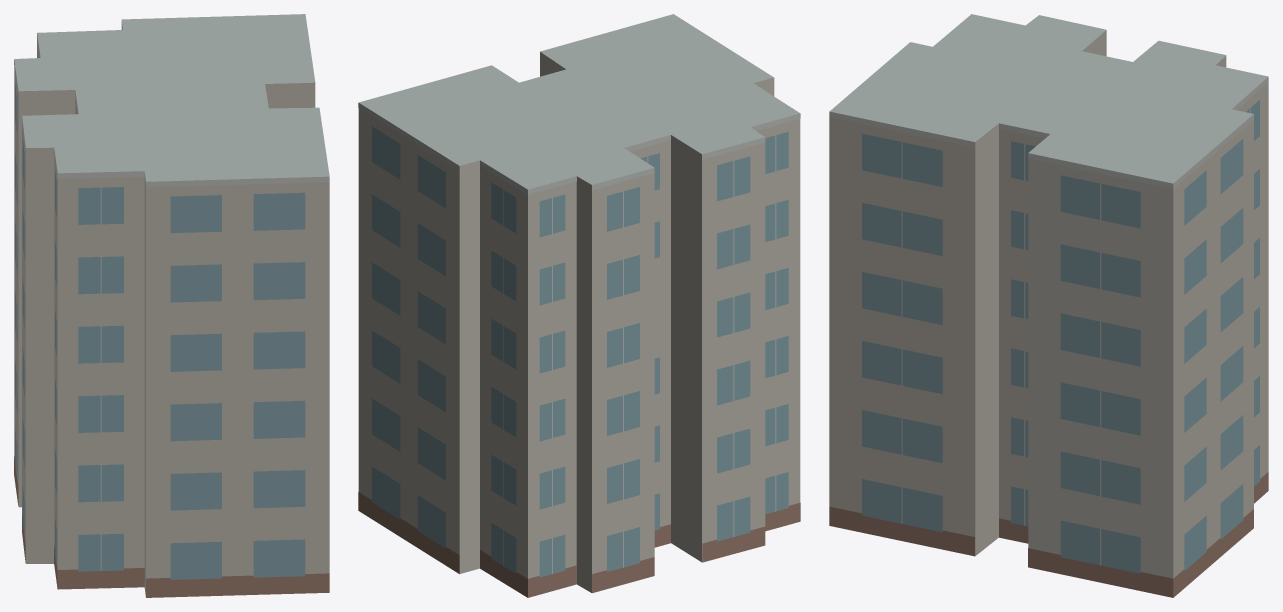
Rendered from survey-upis-32699944.glb.
3 renders of one model, left to right at view 1: azimuth 30°, elevation 25°; view 2: azimuth 150°, elevation 25°; view 3: azimuth 270°, elevation 25°, orthographic.
Visible parts, largest first — view 1: survey-upis-32699944.tmp; view 2: survey-upis-32699944.tmp; view 3: survey-upis-32699944.tmp.
Boxes of the visible parts, x1,y1,x2,y2 form: survey-upis-32699944.tmp: [14, 14, 329, 597]; survey-upis-32699944.tmp: [358, 14, 800, 597]; survey-upis-32699944.tmp: [829, 14, 1268, 597].
Bounding box in the file's own units: 16.08 × 18.3 × 17.59.
